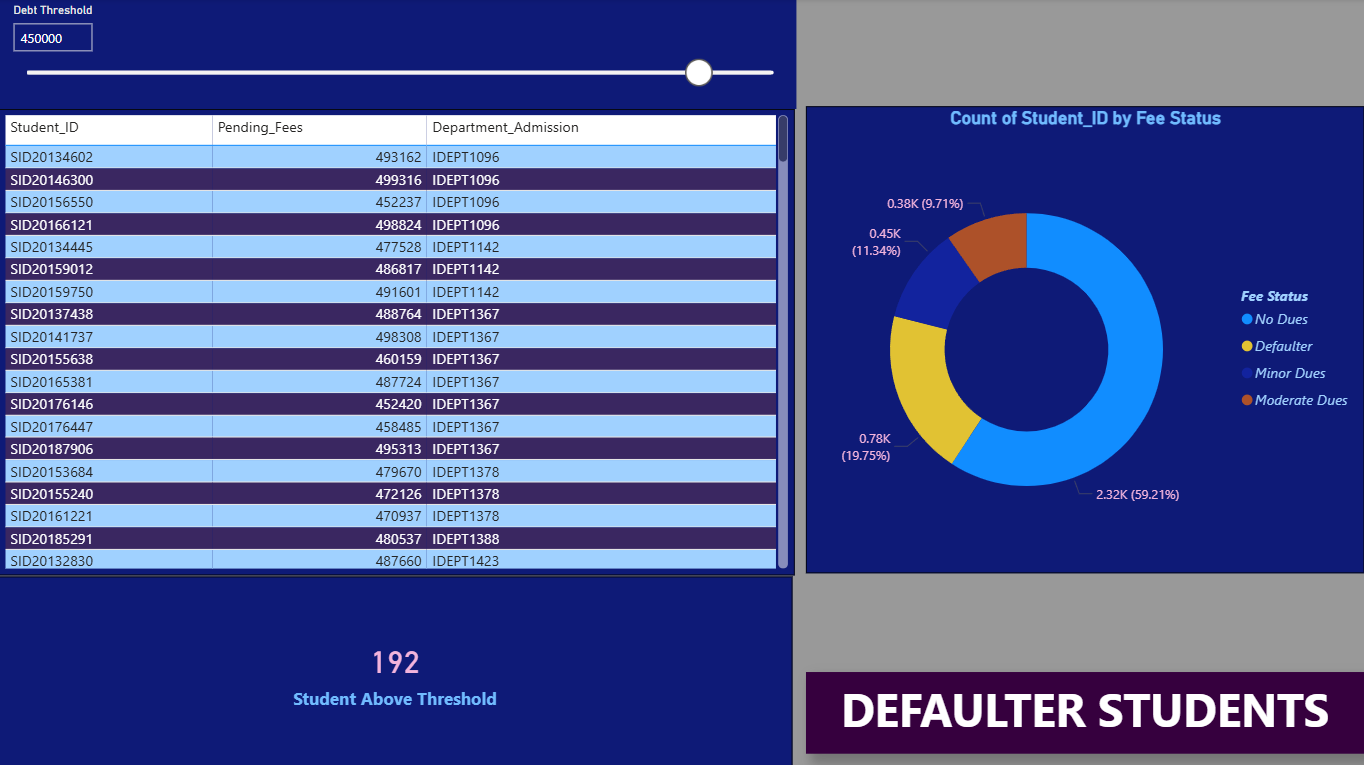

The page's visual inventory and layout, read from the dashboard file:
{"tool":"powerbi","page":{"name":"Financial 2","canvas":[1280,720],"ordinal":4},"visuals":[{"type":"slicer","fields":{"Values":["Debt Threshold.Debt Threshold"]},"box":[1.4,0,745.6,103.7],"z":0},{"type":"donutChart","fields":{"Category":["Financials.Fee Status"],"Y":["Count(Financials.Student_ID)"]},"box":[757,100.8,522.6,437.4],"z":1000},{"type":"tableEx","fields":{"Values":["Financials.Student_ID","Financials.Pending_Fees","Stu Details.Department_Admission"]},"box":[0,104.2,745.6,436.8],"z":2000},{"type":"card","fields":{"Values":["Financials.Student Above Threshold"]},"box":[0,541.1,744.2,178.9],"z":3000},{"type":"textbox","box":[757,630.6,522.6,76.7],"z":4000}]}

Visuals, with their boxes in screenshot pixels (x1, y1, x2, y2), scaled from the page's 1280x720 canvas onto the 1364x765 screenshot:
slicer - Debt Threshold.Debt Threshold: rect(1, 0, 796, 110)
donutChart - Financials.Fee Status x Count(Financials.Student_ID): rect(807, 107, 1363, 572)
tableEx - Financials.Student_ID x Financials.Pending_Fees: rect(0, 111, 795, 575)
card - Financials.Student Above Threshold: rect(0, 575, 793, 764)
textbox: rect(807, 670, 1363, 752)
